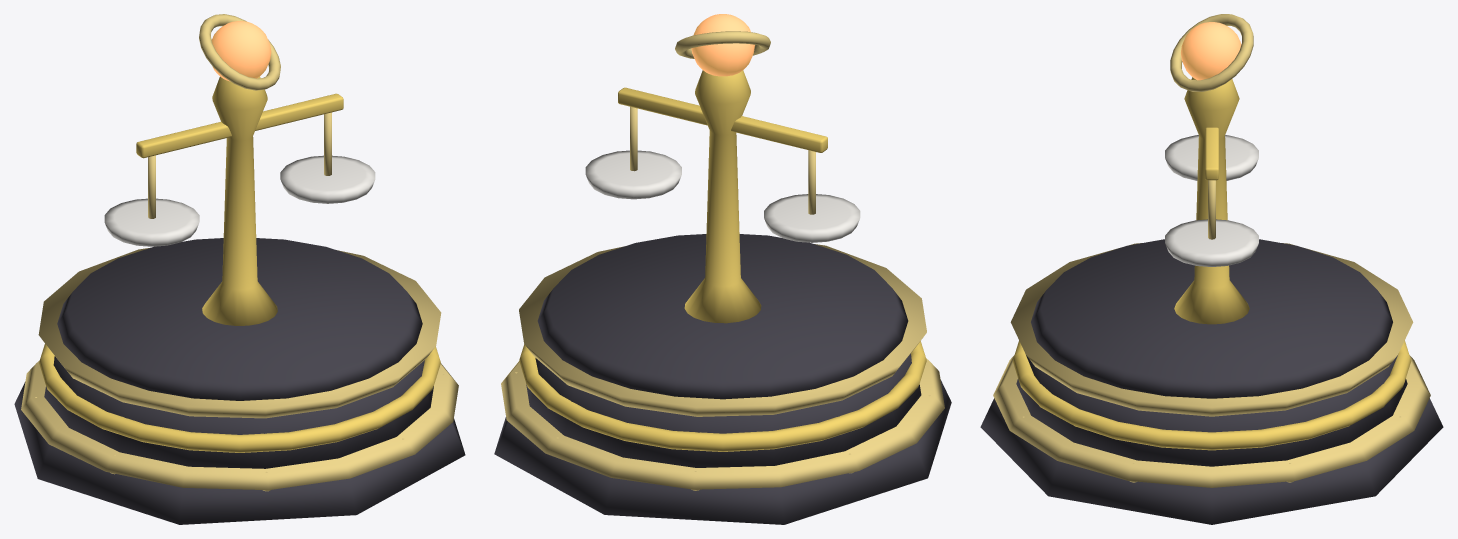
3 views of the same model, side by side, from view 1: azimuth 30°, elevation 25°; view 2: azimuth 150°, elevation 25°; view 3: azimuth 270°, elevation 25° (orthographic). The views are drawn at different scales.
Parts seen in each view (by area): view 1: VC-001_Prince_Escalus; view 2: VC-001_Prince_Escalus; view 3: VC-001_Prince_Escalus.
Boxes of the visible parts, bbox=[...] form: VC-001_Prince_Escalus: bbox=[14, 14, 465, 524]; VC-001_Prince_Escalus: bbox=[494, 14, 951, 524]; VC-001_Prince_Escalus: bbox=[980, 14, 1443, 524].
Size of the model in its own units: 0.92 by 0.882 by 0.92.
